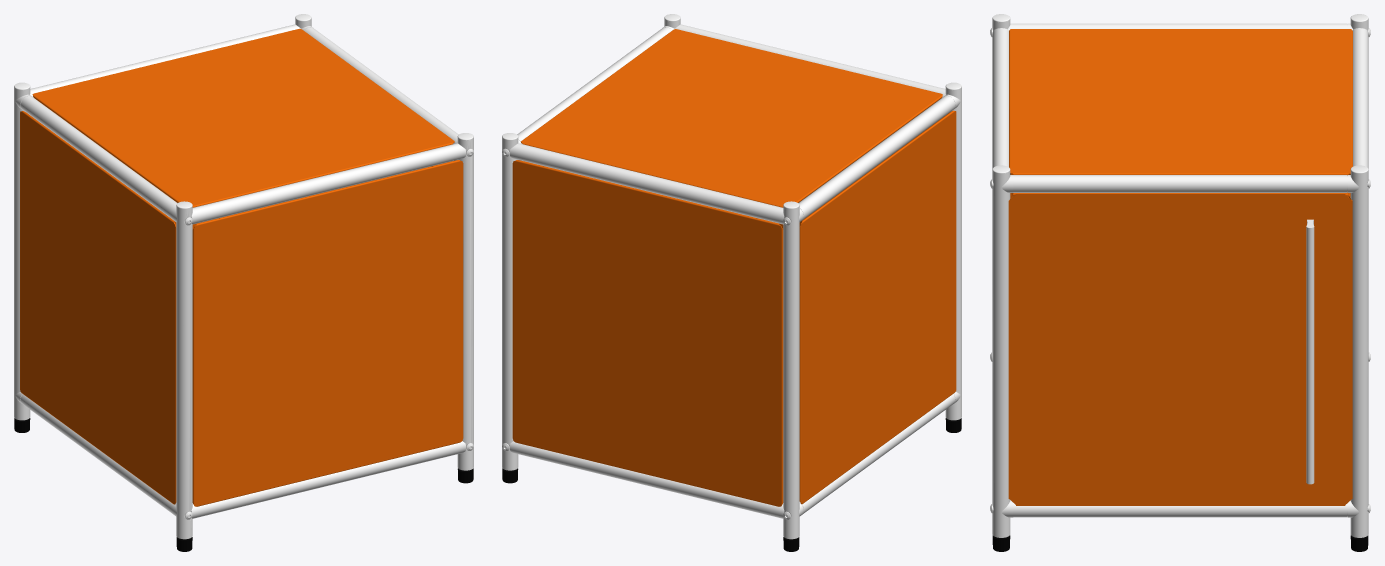
Rendered from 40x40x40-2-5-Orange_optimized_optimized.glb.
3 views of the same model, side by side, from view 1: azimuth 30°, elevation 25°; view 2: azimuth 150°, elevation 25°; view 3: azimuth 270°, elevation 25° (orthographic). The views are drawn at different scales.
Parts seen in each view (by area): view 1: 直角鐵板-40x40-5 - 零件, 反-鐵管-40-354..4-1 - 零件, 圓形腳+調整器-1 - 零件; view 2: 直角鐵板-40x40-5 - 零件, 反-鐵管-40-354..4-1 - 零件, 圓形腳+調整器-1 - 零件; view 3: 直角鐵板-40x40-5 - 零件, 反-鐵管-40-354..4-1 - 零件, 圓形腳+調整器-1 - 零件.
Boxes of the visible parts, x1,y1,x2,y2 form: 直角鐵板-40x40-5 - 零件: (20,28,463,506); 反-鐵管-40-354..4-1 - 零件: (14,14,473,539); 圓形腳+調整器-1 - 零件: (14,418,473,551); 直角鐵板-40x40-5 - 零件: (512,29,956,506); 反-鐵管-40-354..4-1 - 零件: (502,14,961,539); 圓形腳+調整器-1 - 零件: (502,418,961,551); 直角鐵板-40x40-5 - 零件: (1008,29,1352,505); 反-鐵管-40-354..4-1 - 零件: (990,14,1370,537); 圓形腳+調整器-1 - 零件: (992,535,1368,551).
Bounding box in the file's own units: 0.4203 × 0.4453 × 0.4035.
